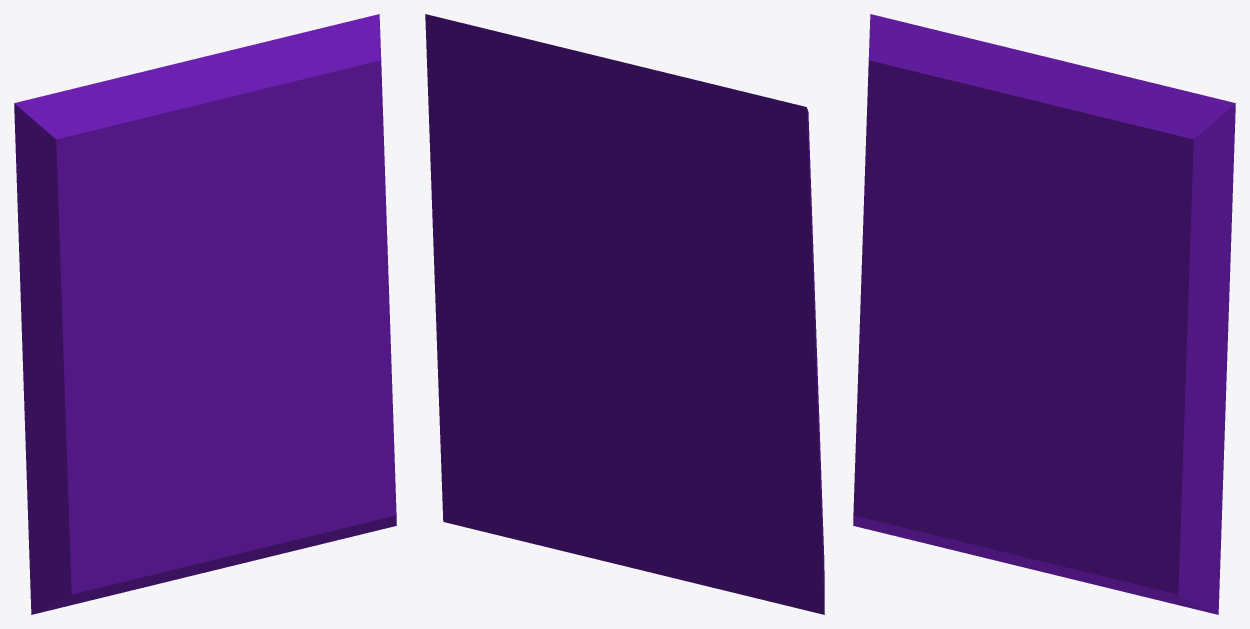
Rendered from SeatPouch_115_chunks.fbx.
The picture shows the model from 3 angles, left to right: view 1: azimuth 30°, elevation 25°; view 2: azimuth 150°, elevation 25°; view 3: azimuth 330°, elevation 25°; orthographic projection. The views are drawn at different scales.
Visible parts, largest first — view 1: SeatPouch_115_0; view 2: SeatPouch_115_0; view 3: SeatPouch_115_0.
Part boxes in pixels (left/top/right/bottom): SeatPouch_115_0: left=14, top=14, right=396, bottom=614; SeatPouch_115_0: left=425, top=14, right=824, bottom=614; SeatPouch_115_0: left=853, top=14, right=1235, bottom=614.
Bounding box in the file's own units: 257 × 335 × 45.29.
